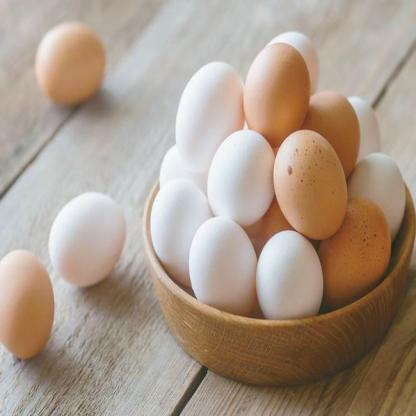egg: (162, 53, 252, 184), (0, 233, 92, 358), (42, 188, 144, 299), (24, 20, 126, 130), (224, 30, 312, 154), (278, 112, 348, 244), (152, 161, 224, 280), (211, 124, 277, 219), (199, 219, 269, 305), (258, 234, 320, 322)
